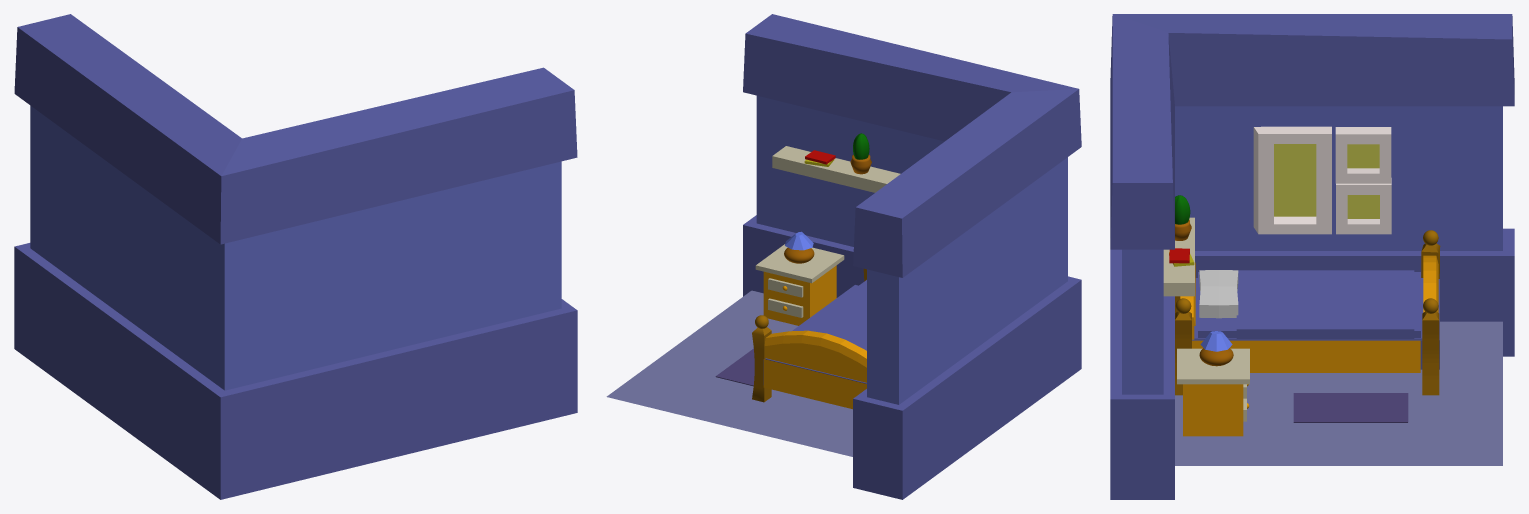
Rendered from room.glb.
3 views of the same model, side by side, from view 1: azimuth 30°, elevation 25°; view 2: azimuth 150°, elevation 25°; view 3: azimuth 270°, elevation 25° (orthographic). The views are drawn at different scales.
Visible parts, largest first — view 1: Cube; view 2: Cube, Plane, Plane.009, Cube.002, Cube.003, Cube.004, Plane.002, Plane.007, Sphere.002, Plane.001; view 3: Cube, Plane, Cube.001, Plane.010, Plane.007, Cube.003, Cube.004, Plane.006, Plane.002, Cube.002, Plane.001, Plane.005 (+2 smaller).
Boxes of the visible parts, x1,y1,x2,y2 form: Cube: [14, 14, 577, 499]; Cube: [743, 14, 1081, 499]; Plane: [606, 290, 852, 456]; Plane.009: [763, 359, 866, 409]; Cube.002: [772, 146, 900, 192]; Cube.003: [763, 265, 836, 325]; Cube.004: [755, 244, 844, 283]; Plane.002: [752, 315, 771, 402]; Plane.007: [715, 348, 754, 386]; Sphere.002: [784, 231, 814, 263]; Plane.001: [820, 419, 852, 451]; Cube: [1110, 14, 1514, 499]; Plane: [1175, 342, 1502, 465]; Cube.001: [1253, 126, 1391, 234]; Plane.010: [1192, 340, 1420, 372]; Plane.007: [1293, 393, 1408, 422]; Cube.003: [1183, 384, 1243, 436]; Cube.004: [1177, 348, 1249, 384]; Plane.006: [1199, 270, 1238, 318]; Plane.002: [1422, 298, 1439, 395]; Cube.002: [1163, 217, 1194, 296]; Plane.001: [1440, 321, 1502, 342]; Plane.005: [1175, 298, 1191, 395].
Bounding box in the file's own units: 2.38 × 2.09 × 2.38.
